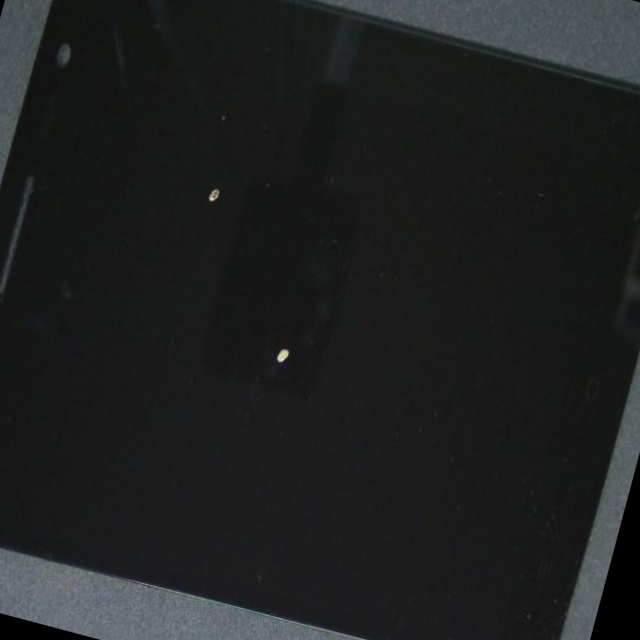stain: (99, 37, 532, 557), (80, 0, 371, 344)
